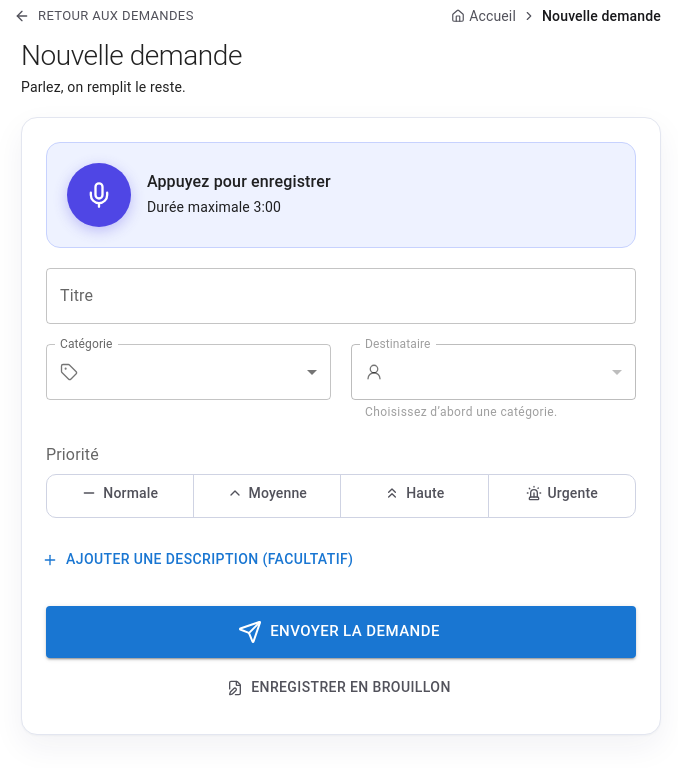
Test: « Enregistrer en brouillon » (US1) › validation réduite : catégorie et titre seulement
Click the button "Enregistrer en brouillon": (341, 688) [223, 666, 459, 710]
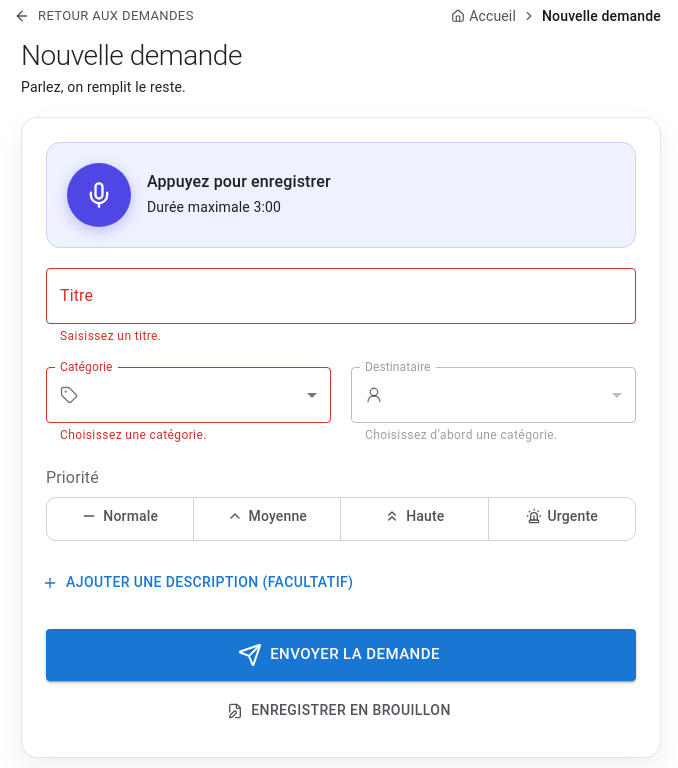
Now the text "Choisissez une catégorie." is shown, box [60, 428, 207, 442]
Now the text "Saisissez un titre." is shown, box [60, 329, 161, 343]
